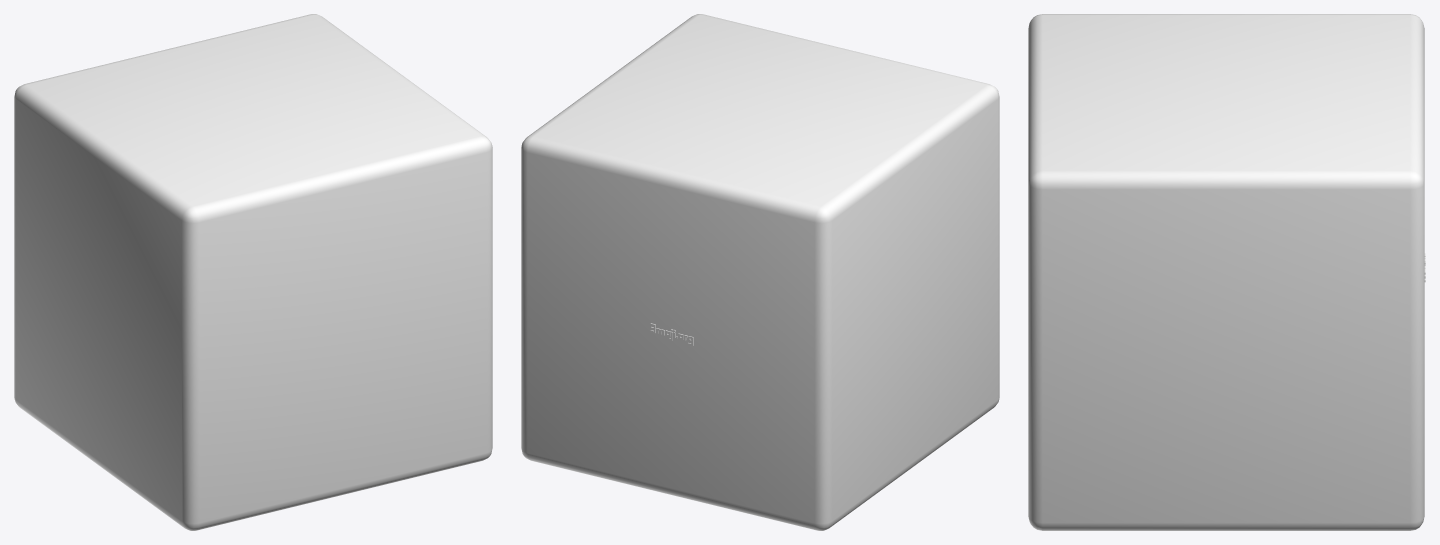
Rendered from white_large_square.fbx.
3 renders of one model, left to right at view 1: azimuth 30°, elevation 25°; view 2: azimuth 150°, elevation 25°; view 3: azimuth 270°, elevation 25°, orthographic. The views are drawn at different scales.
Parts seen in each view (by area): view 1: brown_square.002; view 2: brown_square.002; view 3: brown_square.002.
Boxes of the visible parts, box(x1,y1,x2,y2) form: brown_square.002: box(14, 14, 492, 530); brown_square.002: box(521, 14, 999, 530); brown_square.002: box(1028, 14, 1425, 530).
Size of the model in its own units: 192 by 192 by 192.
1 material, 1 textured.
